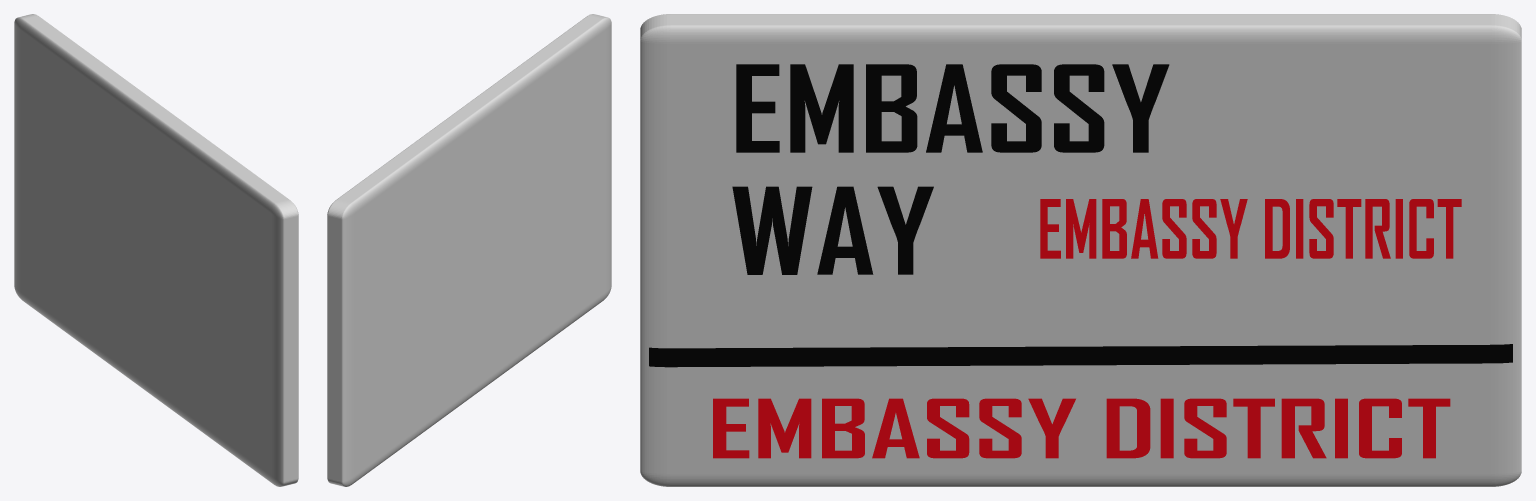
File: embassy_district_sign_1.fbx
3 renders of one model, left to right at view 1: azimuth 30°, elevation 25°; view 2: azimuth 150°, elevation 25°; view 3: azimuth 270°, elevation 25°, orthographic. The views are drawn at different scales.
Parts seen in each view (by area): view 1: Cube; view 2: Cube; view 3: Cube, Text.002, Text, Text.003, Text.001.
Boxes of the visible parts, box(x1,y1,x2,y2) form: Cube: box(14, 14, 298, 486); Cube: box(327, 14, 611, 486); Cube: box(640, 14, 1521, 486); Text.002: box(713, 398, 1450, 458); Text: box(736, 64, 1169, 152); Text.003: box(1040, 199, 1461, 258); Text.001: box(732, 186, 933, 274).
Size of the model in its own units: 1.63 by 20.07 by 34.74.
